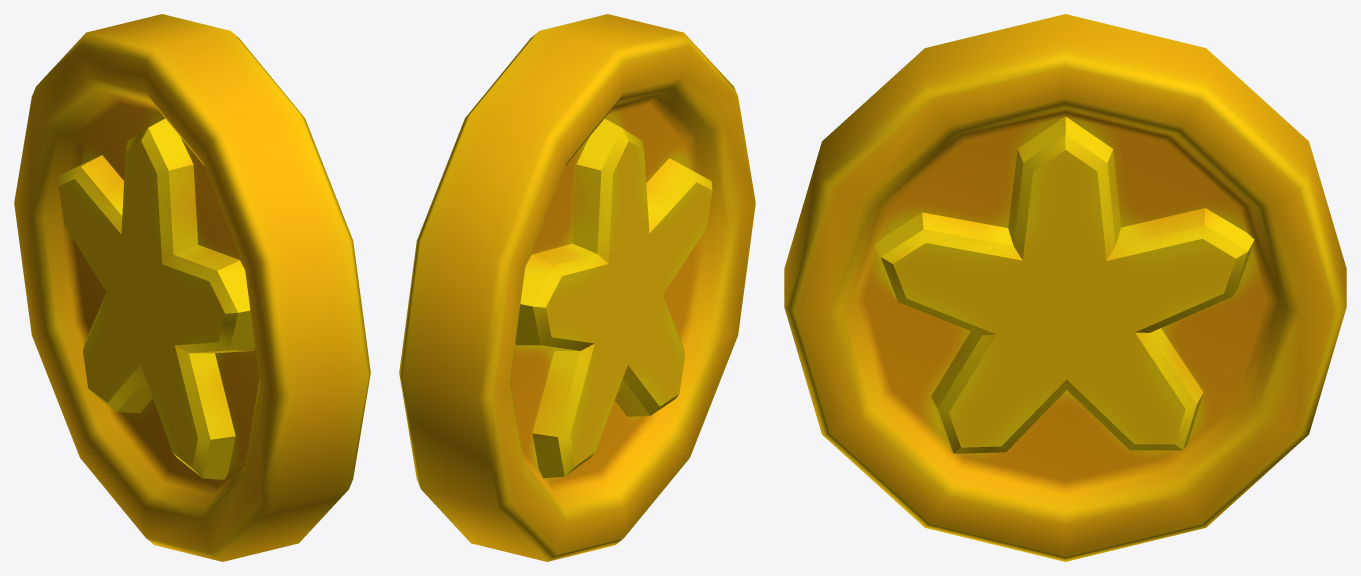
Rendered from Coin.fbx.
3 renders of one model, left to right at view 1: azimuth 30°, elevation 25°; view 2: azimuth 150°, elevation 25°; view 3: azimuth 270°, elevation 25°, orthographic. The views are drawn at different scales.
Parts seen in each view (by area): view 1: Coin; view 2: Coin; view 3: Coin.
Part boxes in pixels (x1,y1,x2,y2): Coin: (14, 14, 370, 561); Coin: (399, 14, 755, 561); Coin: (784, 14, 1346, 561).
Bounding box in the file's own units: 0.2039 × 0.9435 × 0.9435.
